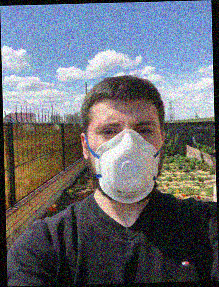with_mask: (91, 113, 163, 205)
